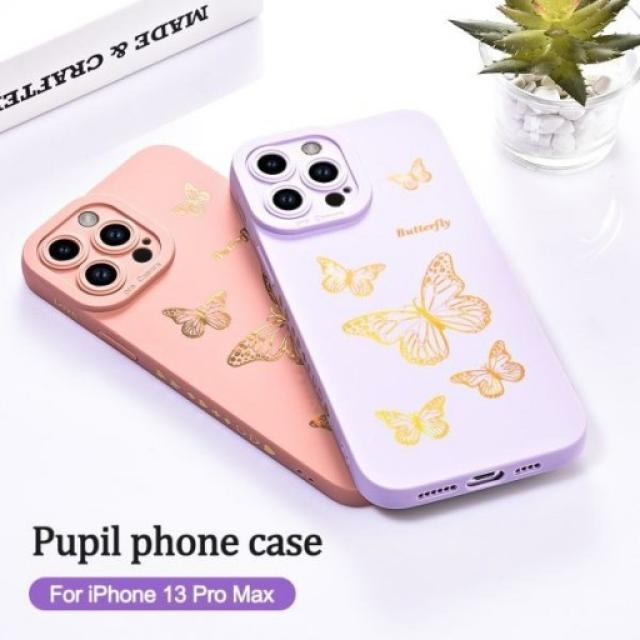phone: (231, 109, 592, 498), (21, 137, 356, 508)
